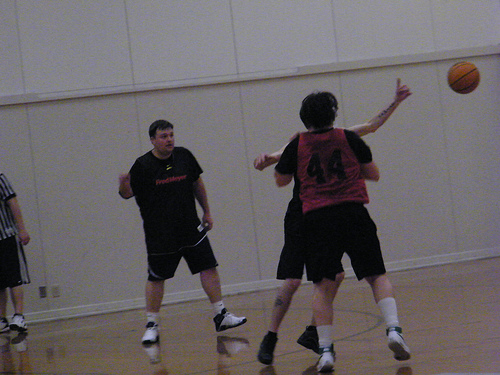basketball: (447, 60, 480, 95)
